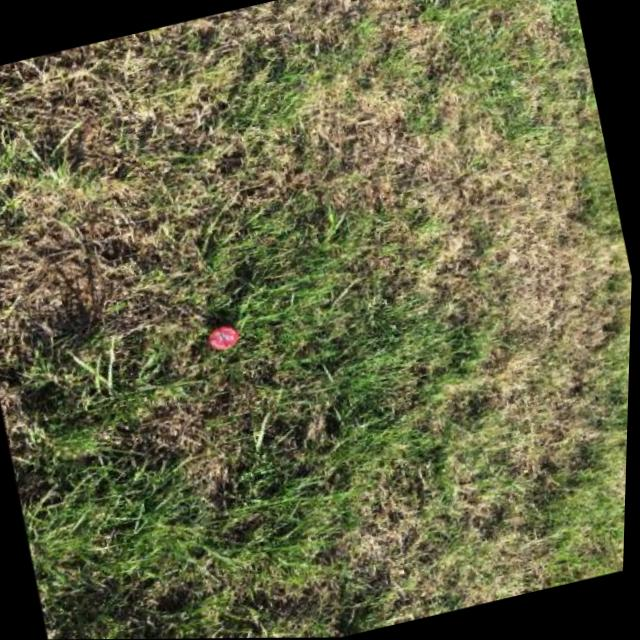metal: (203, 323, 239, 352)
